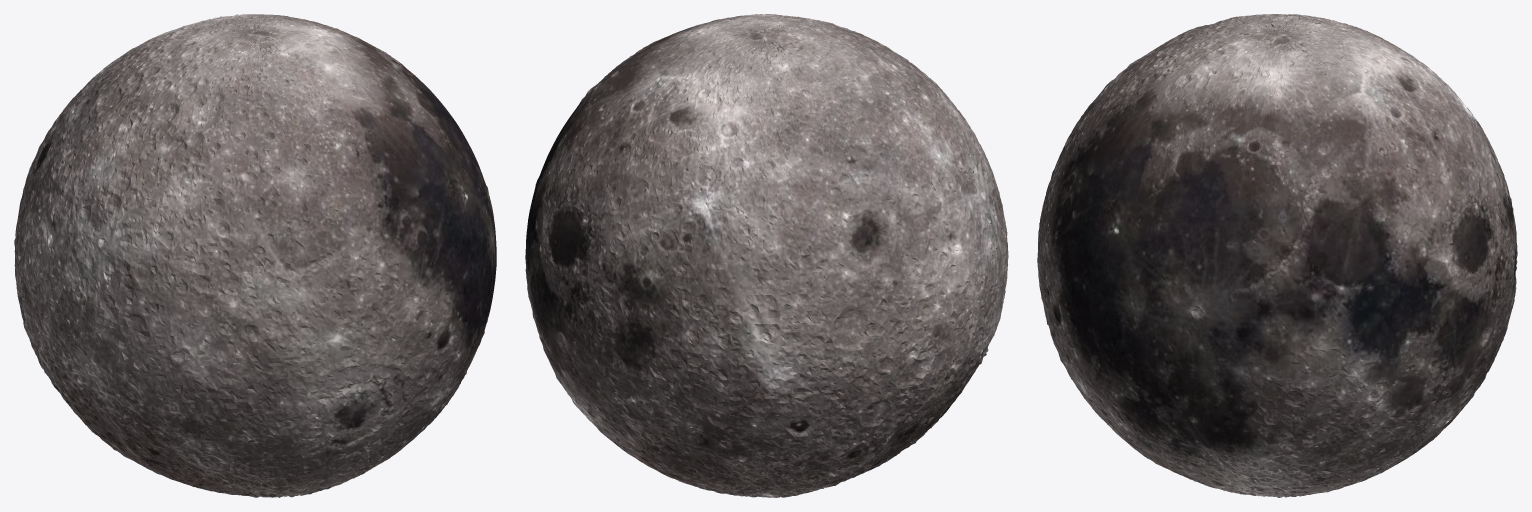
File: moon.glb
3 views of the same model, side by side, from view 1: azimuth 30°, elevation 25°; view 2: azimuth 150°, elevation 25°; view 3: azimuth 270°, elevation 25° (orthographic).
Parts seen in each view (by area): view 1: Sphere; view 2: Sphere; view 3: Sphere.
Part boxes in pixels (x1=…): Sphere: x1=14, y1=14, x2=496, y2=497; Sphere: x1=525, y1=14, x2=1008, y2=497; Sphere: x1=1037, y1=14, x2=1517, y2=497.
Size of the model in its own units: 1.97 by 1.99 by 1.97.
1 material, 1 textured.
